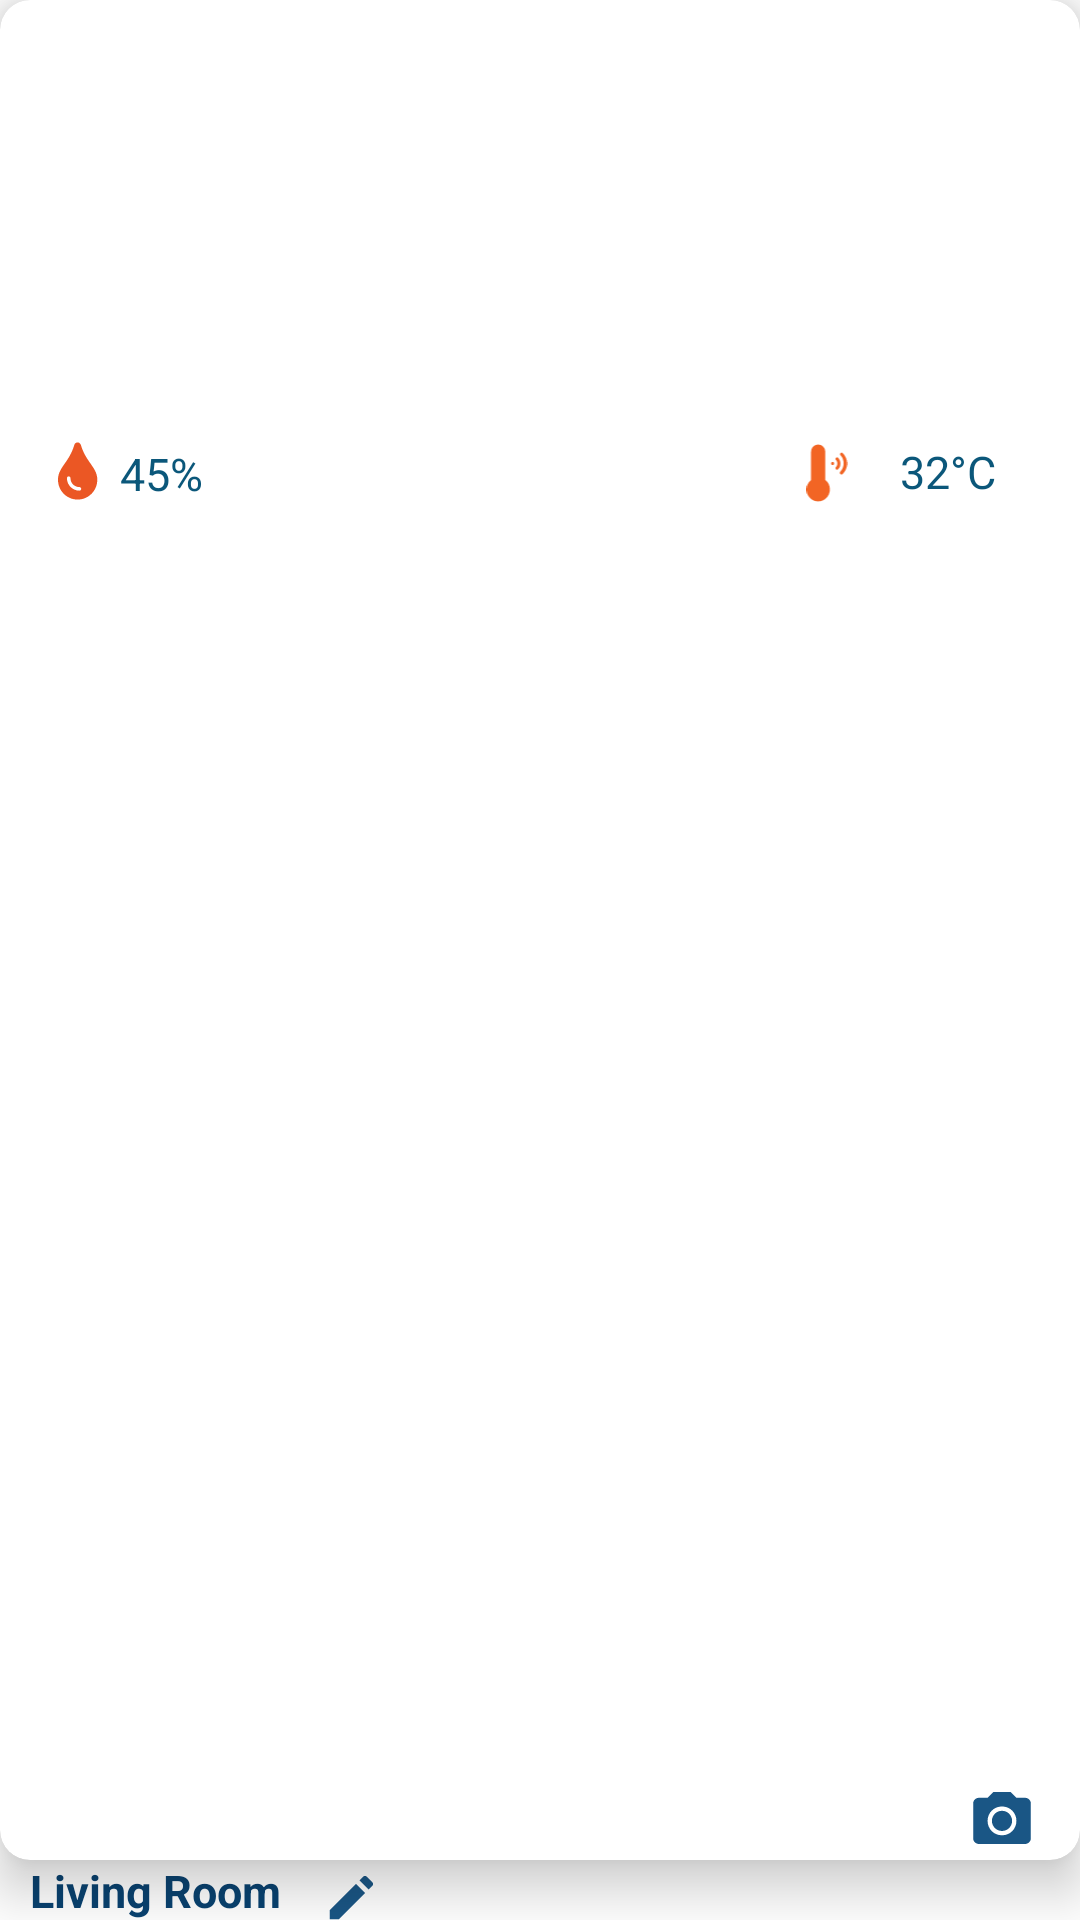

Icons on this 1080×1920 Android screen, each with its box as [x1,y1,x2,y2]:
vectoredit: [329,1876,374,1920]
vectorpic: [973,1792,1031,1844]
vectorwater: [58,442,98,500]
